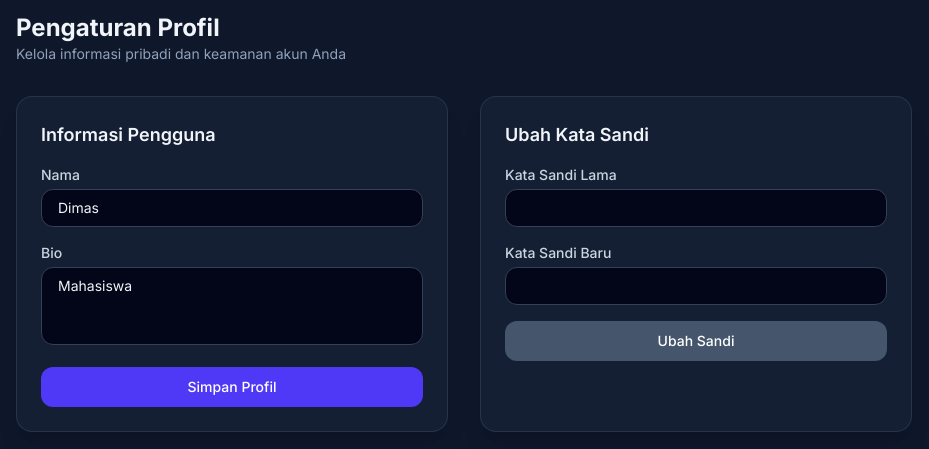
Test: ProfilePage › berhasil mengubah kata sandi dan mengosongkan field
Type "lama123" into the password field labelled "Kata Sandi Lama" at (696,208), box [505,189,887,227]
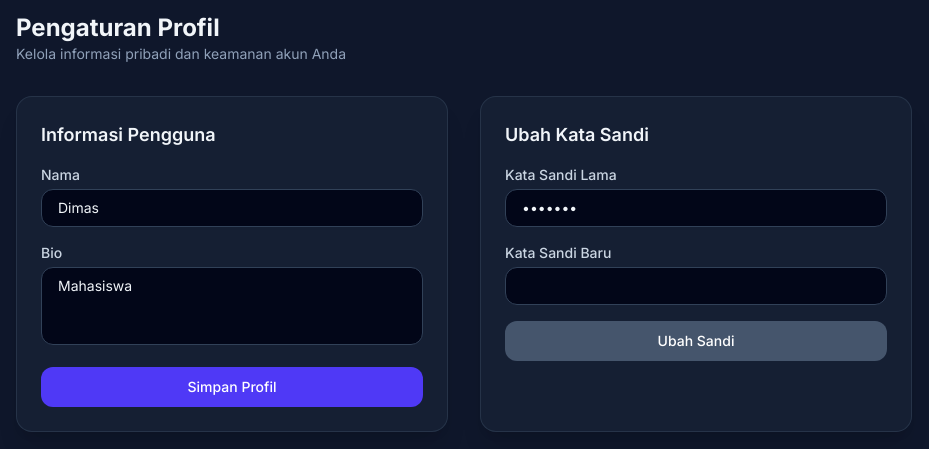
Type "baru456" into the password field labelled "Kata Sandi Baru" at (696,286), box [505,267,887,305]
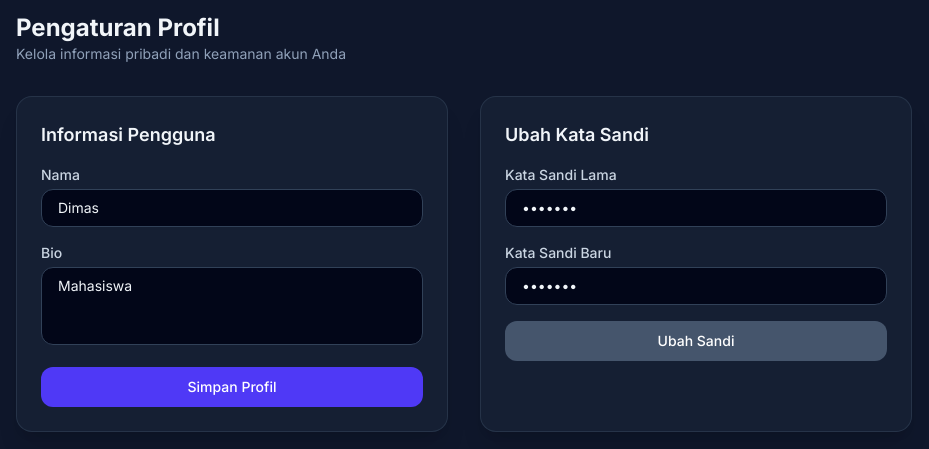
Click the button "Ubah Sandi" at (696,341), box [505,321,887,361]
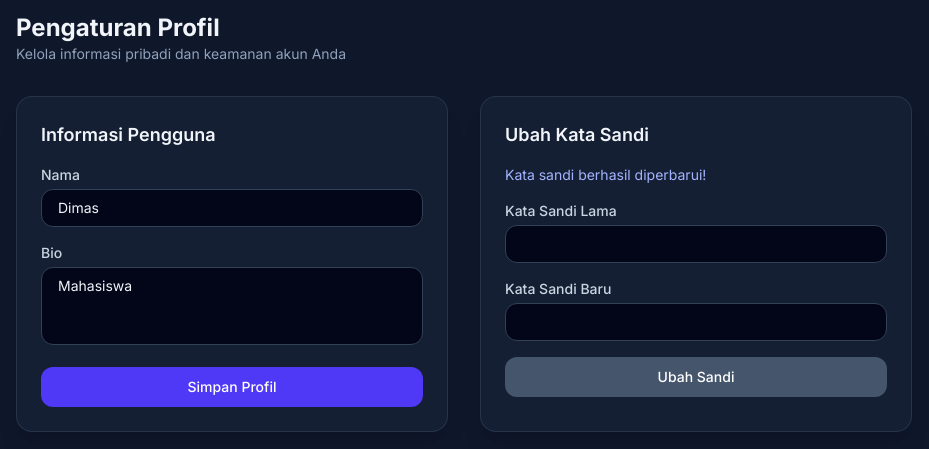
Now the text "Kata sandi berhasil diperbarui!" is shown, box [505,166,706,183]
Now the password field labelled "Kata Sandi Lama" is empty, box [505,225,887,263]
Now the password field labelled "Kata Sandi Baru" is empty, box [505,303,887,341]
